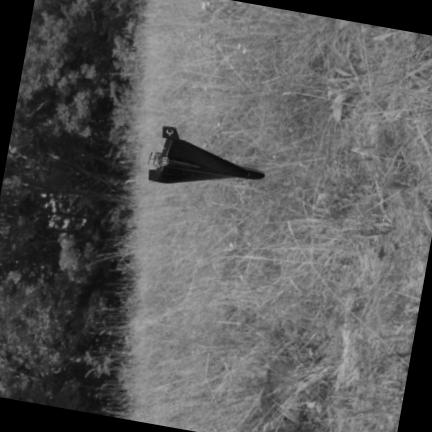Shahed: (148, 126, 264, 183)
